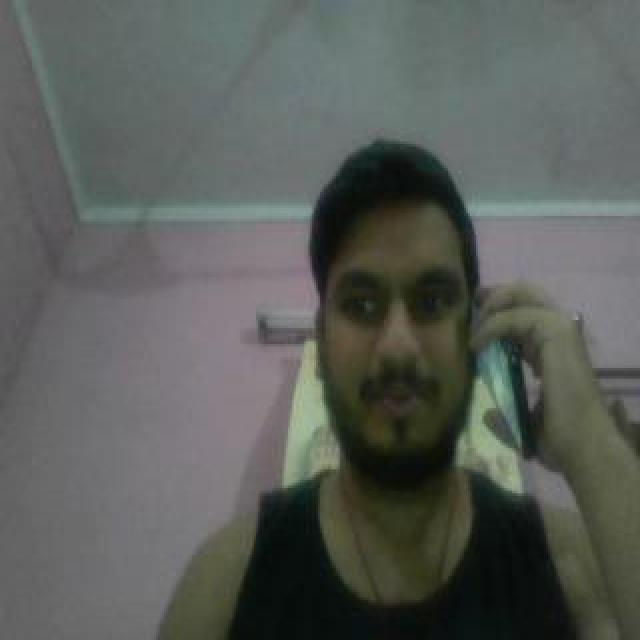phone: (468, 288, 532, 457)
